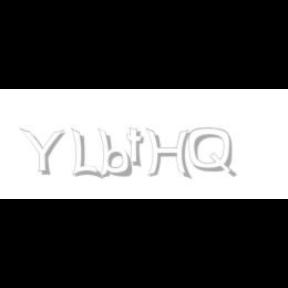H: (145, 128, 191, 180)
L: (71, 128, 99, 180)
Q: (189, 128, 235, 178)
Y: (19, 128, 65, 176)
b: (97, 128, 135, 178)
t: (126, 128, 148, 168)
